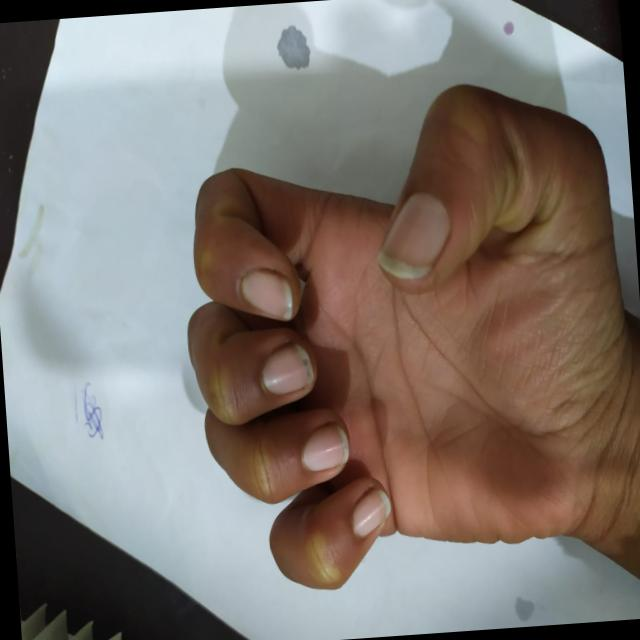Nail: (377, 191, 450, 278), (262, 342, 314, 393), (241, 269, 293, 319), (301, 424, 348, 469), (351, 485, 390, 536)
